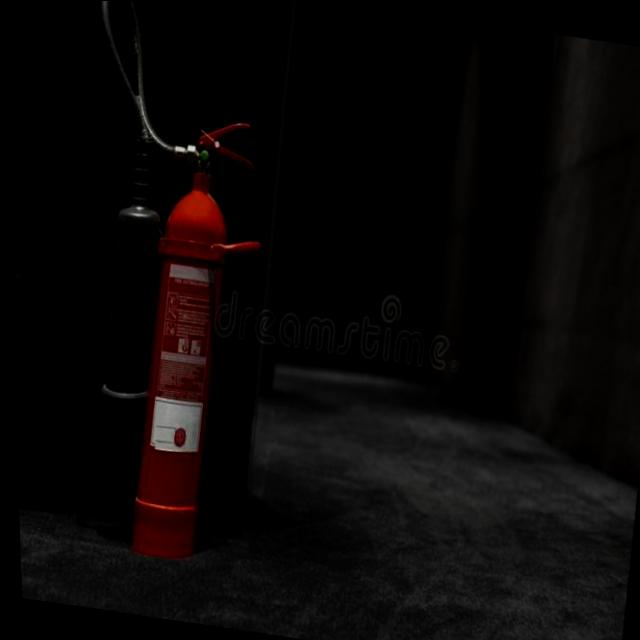FireExtinguisher: (19, 0, 311, 576)
